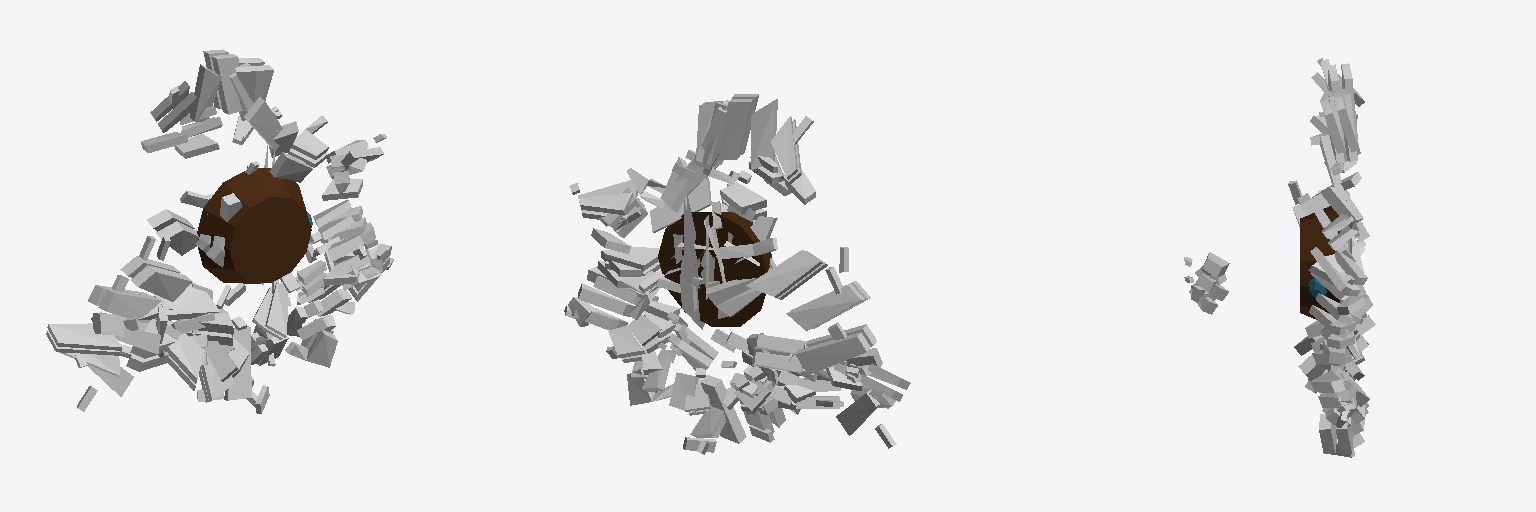
3 renders of one model, left to right at view 1: azimuth 30°, elevation 25°; view 2: azimuth 150°, elevation 25°; view 3: azimuth 270°, elevation 25°, orthographic.
Visible parts, largest first — view 1: Cone_Cone_cover, Cone.001_Cone.001_cover, Cylinder_Cylinder_Material.001; view 2: Cone_Cone_cover, Cone.001_Cone.001_cover, Cylinder_Cylinder_Material.001, Plane_Plane_Material.003; view 3: Cone.001_Cone.001_cover, Cone_Cone_cover, Cylinder_Cylinder_Material.001.
Part boxes in pixels (left/top/right/bottom): Cone_Cone_cover: left=88, top=121, right=393, bottom=413; Cone.001_Cone.001_cover: left=46, top=49, right=386, bottom=411; Cylinder_Cylinder_Material.001: left=197, top=168, right=311, bottom=283; Cone_Cone_cover: left=564, top=157, right=882, bottom=454; Cone.001_Cone.001_cover: left=569, top=94, right=910, bottom=448; Cylinder_Cylinder_Material.001: left=658, top=212, right=771, bottom=326; Plane_Plane_Material.003: left=665, top=195, right=759, bottom=329; Cone.001_Cone.001_cover: left=1191, top=58, right=1368, bottom=407; Cone_Cone_cover: left=1184, top=185, right=1375, bottom=457; Cylinder_Cylinder_Material.001: left=1300, top=206, right=1339, bottom=319.
Size of the model in its own units: 3.42 by 3.53 by 1.67.
Materials: 4 (1 with a texture image).